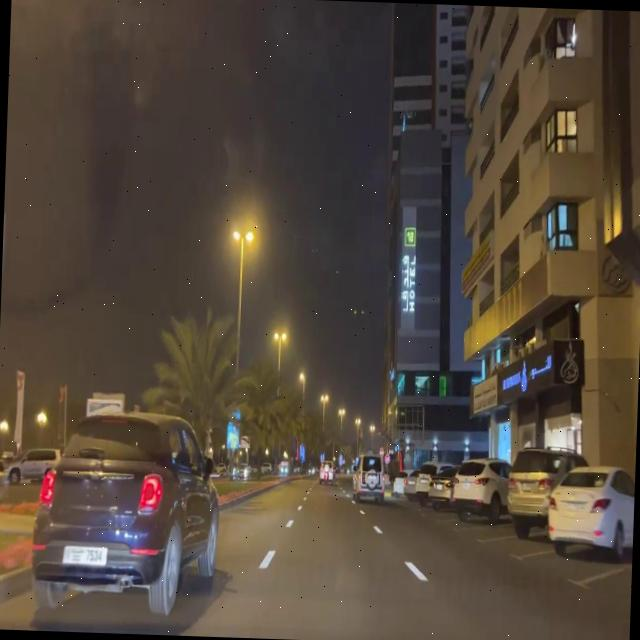License-plate: (61, 546, 108, 572)
